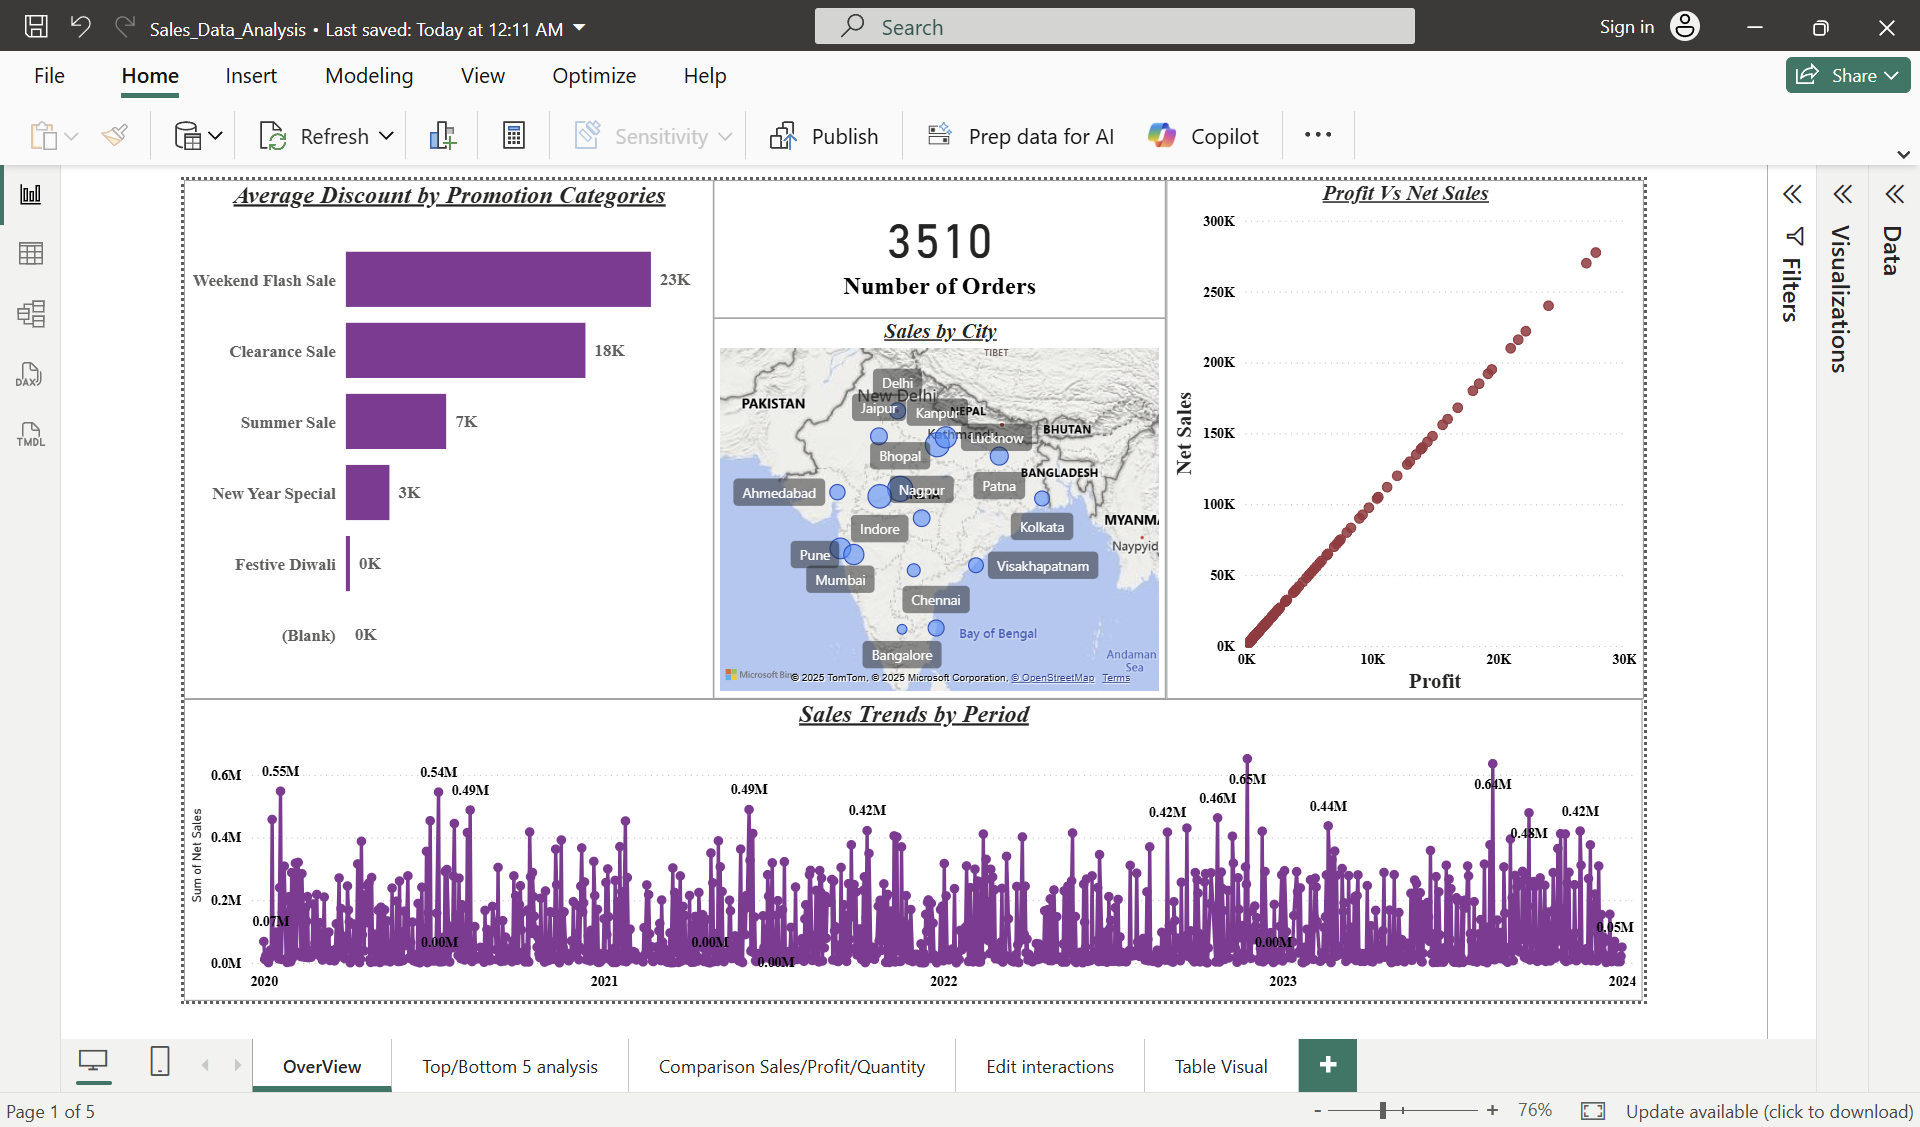

The dashboard page shown, as its layout file describes it:
{"tool":"powerbi","page":{"name":"OverView","canvas":[1280,720],"ordinal":0},"visuals":[{"type":"lineChart","title":"Sales Trends by Period","fields":{"Y":["Fact Table.Net Sales  "],"Category":["Fact Table.Date (dd/mm/yyyy).Variation.Date Hierarchy.Year"]},"box":[0,455.4,1279.4,264.6],"z":0},{"type":"scatterChart","title":"Profit Vs Net Sales  ","fields":{"X":["Fact Table.Profit"],"Y":["Fact Table.Net Sales  "]},"box":[861.5,0,418.5,455.4],"z":1000},{"type":"barChart","title":"Average Discount by Promotion Categories","fields":{"Y":["Fact Table.Discount"],"Category":["Dim Promotion.Promotion Name"]},"box":[0,0,464.6,455.4],"z":2000},{"type":"map","title":"Sales by City","fields":{"Category":["Dim Customers.City"],"Size":["Fact Table.Net Sales  "]},"box":[464.6,121.5,396.9,333.8],"z":3000},{"type":"card","fields":{"Values":["Fact Table.Order ID"]},"box":[464.6,0,396.9,121.5],"z":4000}]}

Visuals, with their boxes on the page's 1280x720 design canvas (x1, y1, x2, y2). These are canvas units, not pixel positions in the 1920x1127 screenshot, which may show the page scaled, cropped or inside an application window:
"Sales Trends by Period" lineChart: box(0, 455, 1279, 720)
"Profit Vs Net Sales  " scatterChart: box(862, 0, 1280, 455)
"Average Discount by Promotion Categories" barChart: box(0, 0, 465, 455)
"Sales by City" map: box(465, 122, 862, 455)
card - Fact Table.Order ID: box(465, 0, 862, 122)
